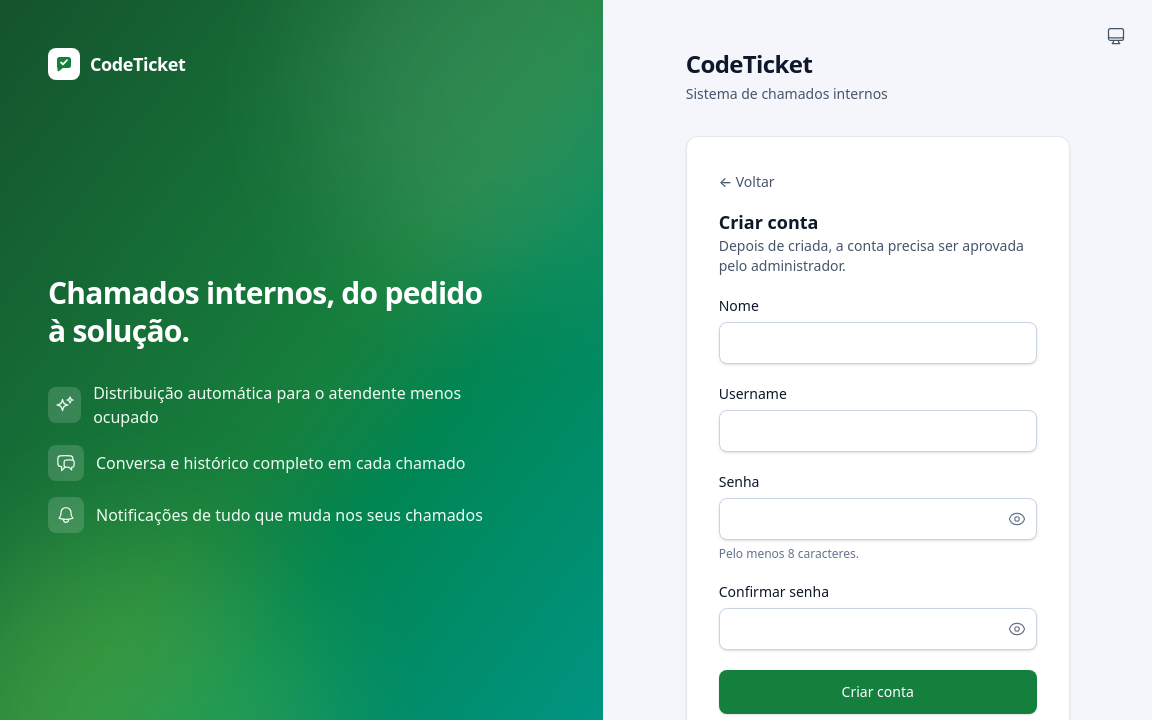
SignUpView › requires every field
Click the button "Criar conta" at point(878, 692), box [719,670,1037,714]
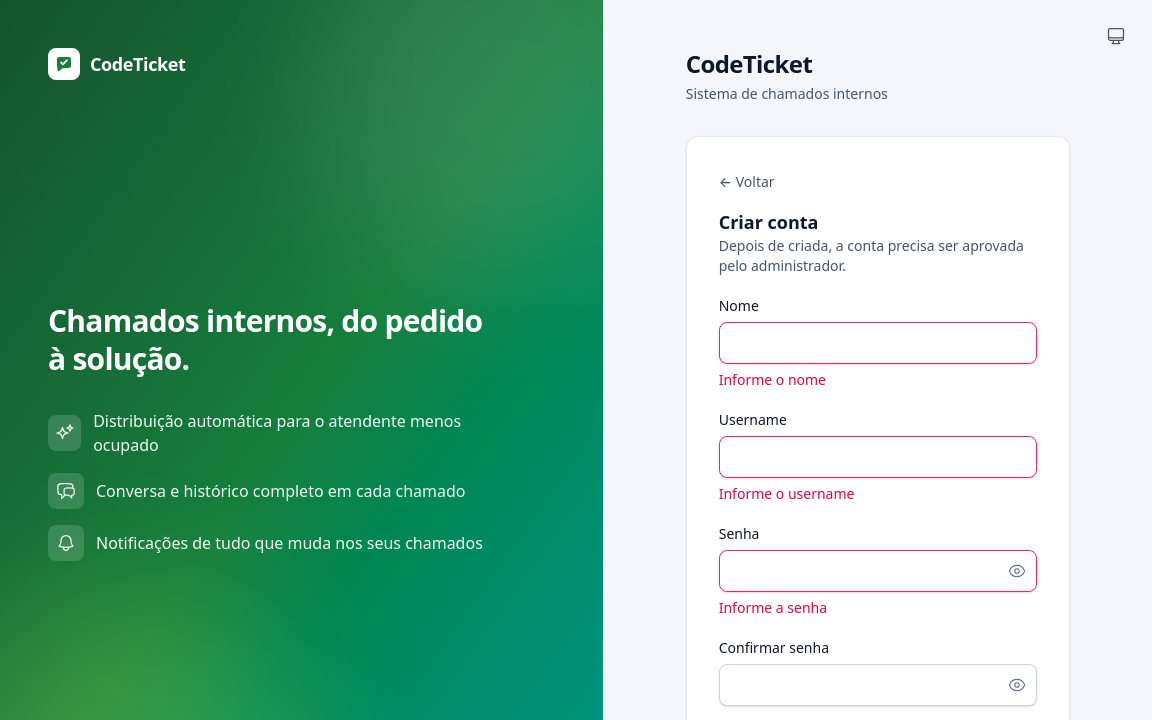
Expected: the text "Informe o nome" is shown, [719,370,826,389]
Expected: the text "Informe o username" is shown, [719,484,854,503]
Expected: the text "Informe a senha" is shown, [719,598,827,617]
